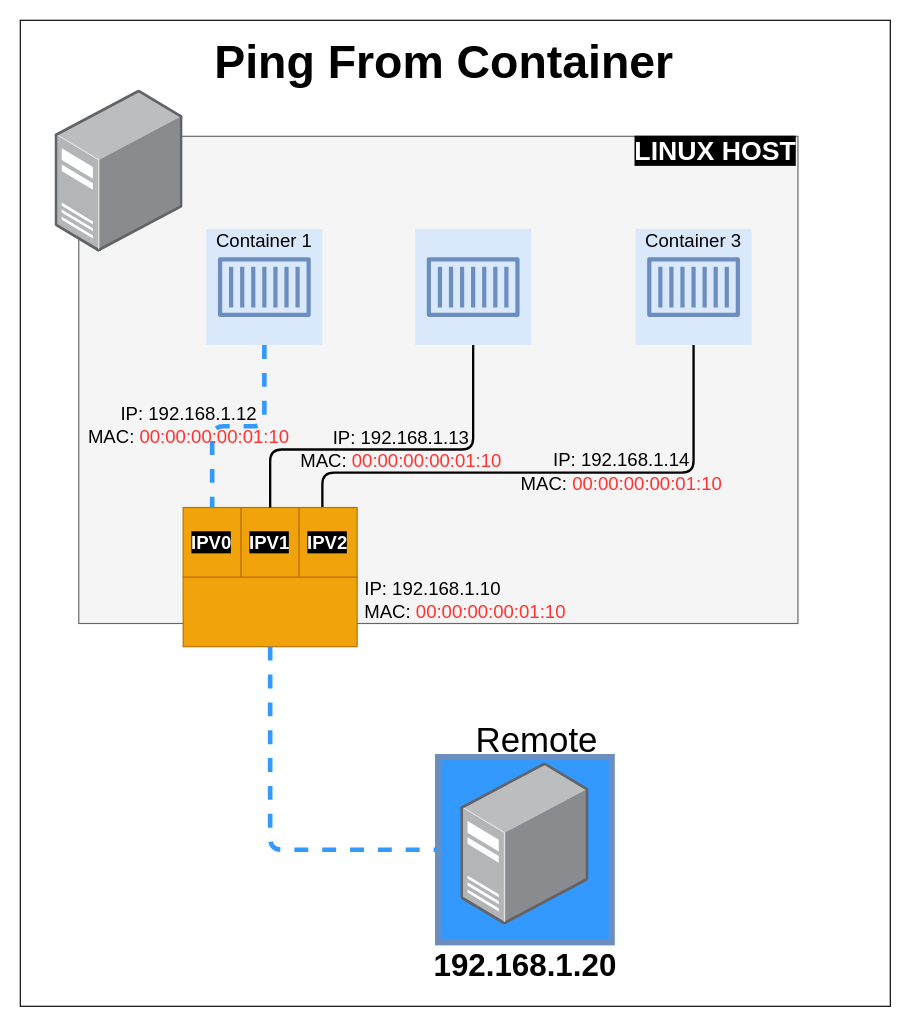
The diagram is 911 pixels wide and 1027 high, and some of its shapes have lost their labels. The shapes that lost their labels are listed below. From the top down, each one's box as (x1, y1, x2, y2) in pixels, then its label:
(414, 228, 531, 345): Container 2
(182, 576, 357, 647): eth0
